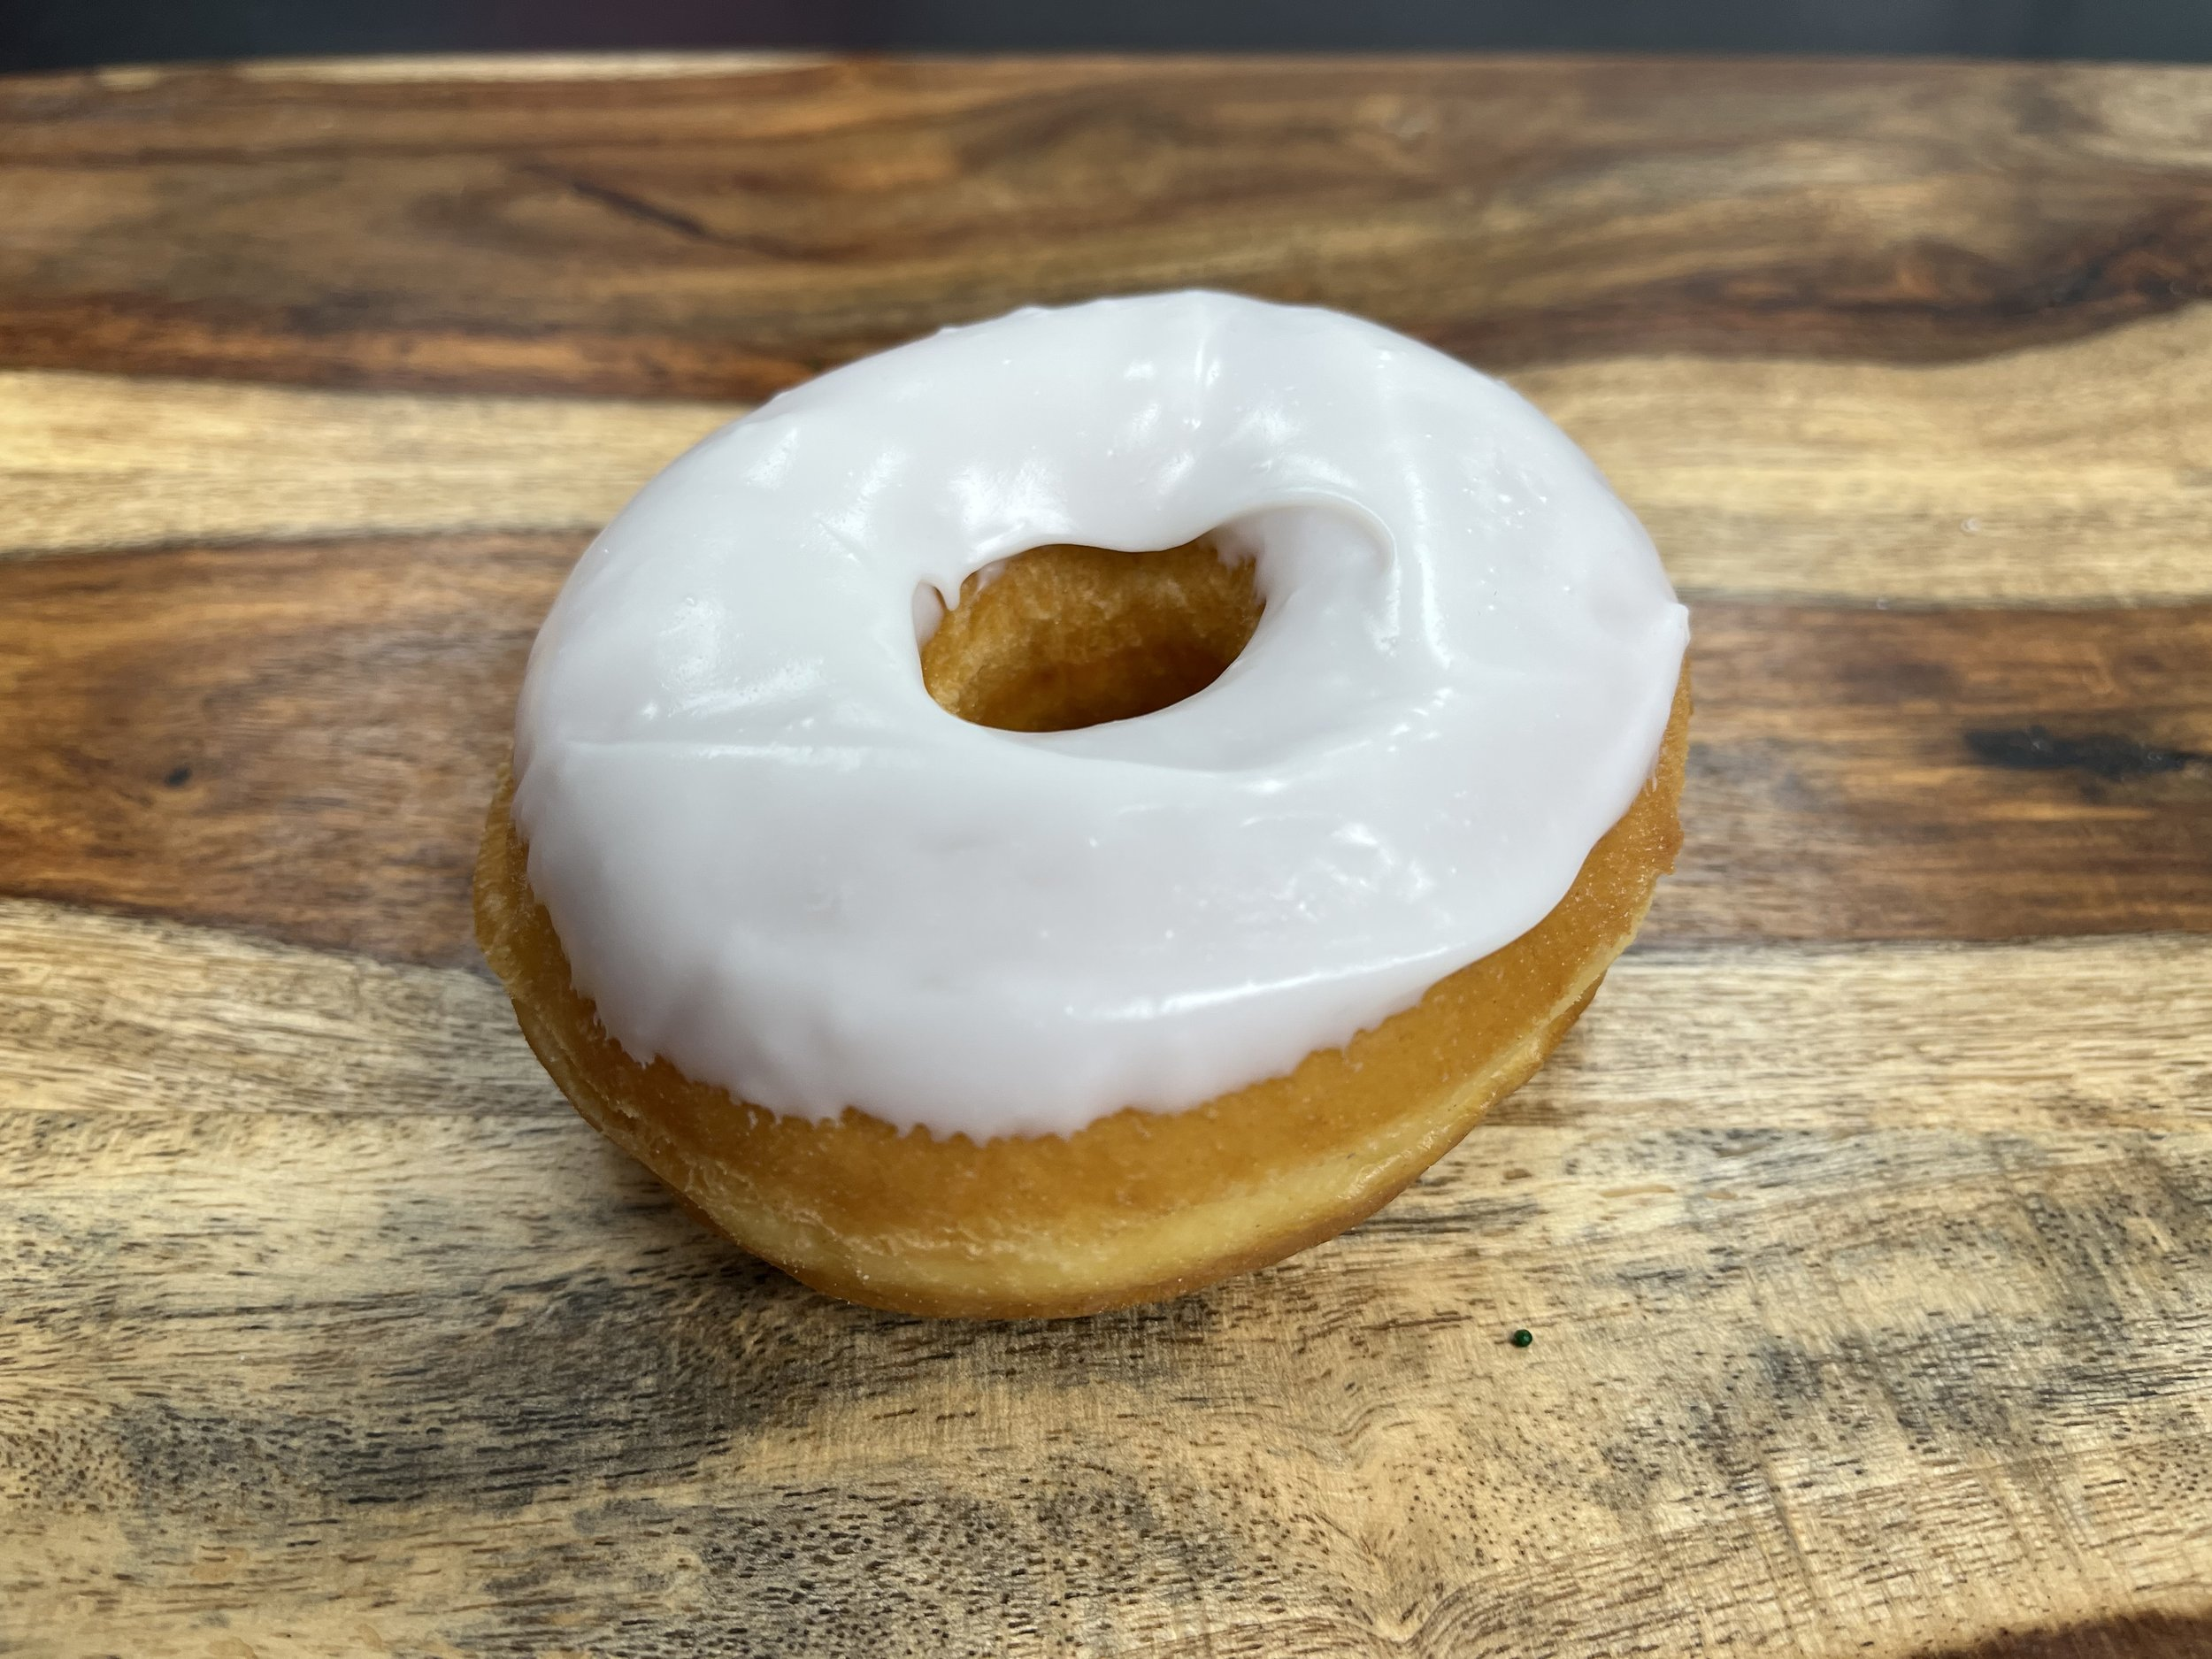donut: (444, 254, 1738, 1321)
